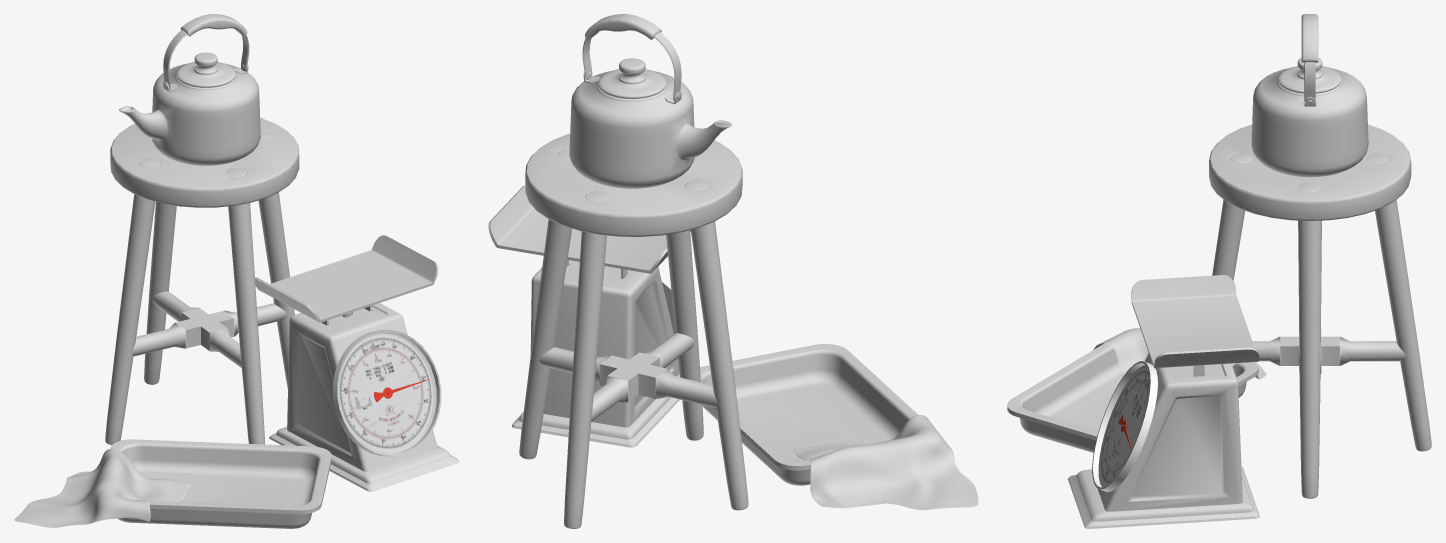
Rendered from kitchen01.fbx.
The picture shows the model from 3 angles, left to right: view 1: azimuth 30°, elevation 25°; view 2: azimuth 150°, elevation 25°; view 3: azimuth 270°, elevation 25°; orthographic projection. The views are drawn at different scales.
Parts seen in each view (by area): view 1: chair, Plane.006, weight_body, weight_circle, teapot_body, weight_up, Plane.007, teapot_handle, teapot_handle01; view 2: chair, Plane.006, teapot_body, weight_body, Plane.007, weight_up, teapot_handle, teapot_handle01; view 3: chair, weight_body, teapot_body, weight_up, Plane.006, weight_circle, Plane.007, teapot_handle, teapot_handle01.
Boxes of the visible parts, x1,y1,x2,y2 form: chair: (105,118,299,444); Plane.006: (110,439,331,528); weight_body: (269,303,459,491); weight_circle: (333,330,441,456); teapot_body: (119,52,260,165); weight_up: (255,235,438,322); Plane.007: (14,448,191,527); teapot_handle: (180,14,247,36); teapot_handle01: (163,30,249,92); chair: (519,133,748,528); Plane.006: (700,344,918,485); teapot_body: (569,58,732,188); weight_body: (511,260,679,447); Plane.007: (793,415,978,510); weight_up: (488,185,690,273); teapot_handle: (585,14,661,39); teapot_handle01: (582,32,681,104); chair: (1209,124,1431,498); weight_body: (1068,353,1259,528); teapot_body: (1251,58,1368,177); weight_up: (1131,275,1259,368); Plane.006: (1007,343,1258,452); weight_circle: (1092,361,1157,491); Plane.007: (1093,328,1266,379); teapot_handle: (1301,14,1318,62); teapot_handle01: (1303,62,1316,106).
Bounding box in the file's own units: 74 × 70.2 × 62.38.
